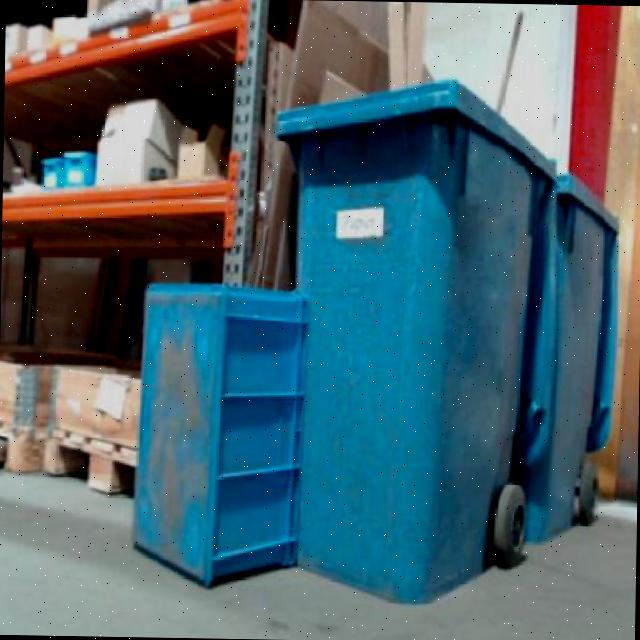pallet: (39, 416, 150, 502)
